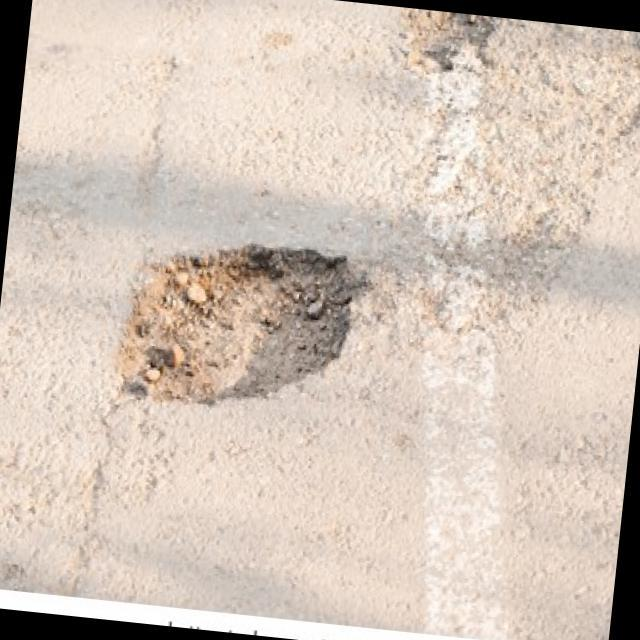Pothole: (114, 226, 364, 426), (394, 6, 490, 80)
